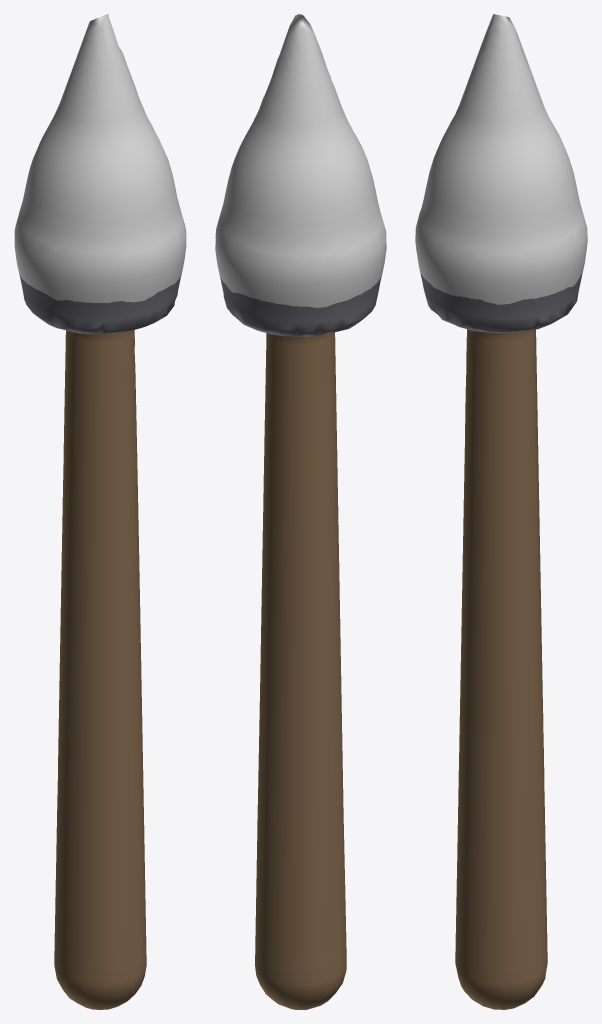
Rendered from torch.glb.
3 renders of one model, left to right at view 1: azimuth 30°, elevation 25°; view 2: azimuth 150°, elevation 25°; view 3: azimuth 270°, elevation 25°, orthographic.
Parts seen in each view (by area): view 1: torch; view 2: torch; view 3: torch.
Part boxes in pixels (<box>): torch: <box>14,14,186,1009</box>; torch: <box>215,14,386,1009</box>; torch: <box>415,14,587,1009</box>.
Bounding box in the file's own units: 11.15 × 71.01 × 11.15.
